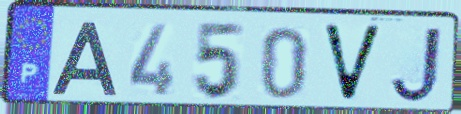0: (258, 23, 312, 100)
4: (126, 21, 178, 98)
5: (192, 19, 247, 102)
A: (49, 18, 120, 98)
J: (387, 24, 446, 106)
V: (319, 22, 386, 106)
